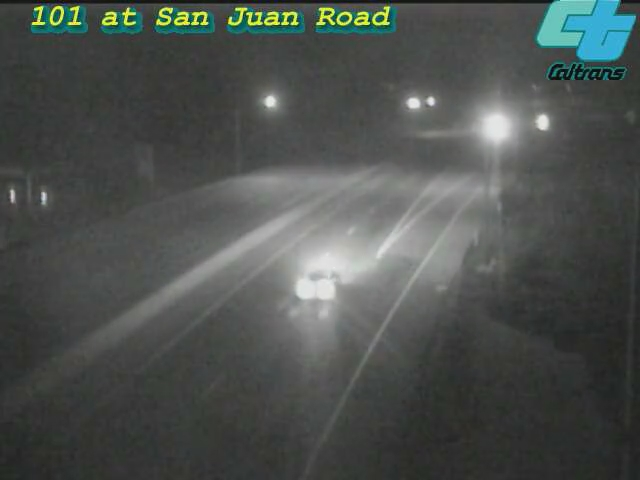vehicle: (287, 240, 367, 320), (467, 102, 517, 152), (517, 97, 567, 147)
